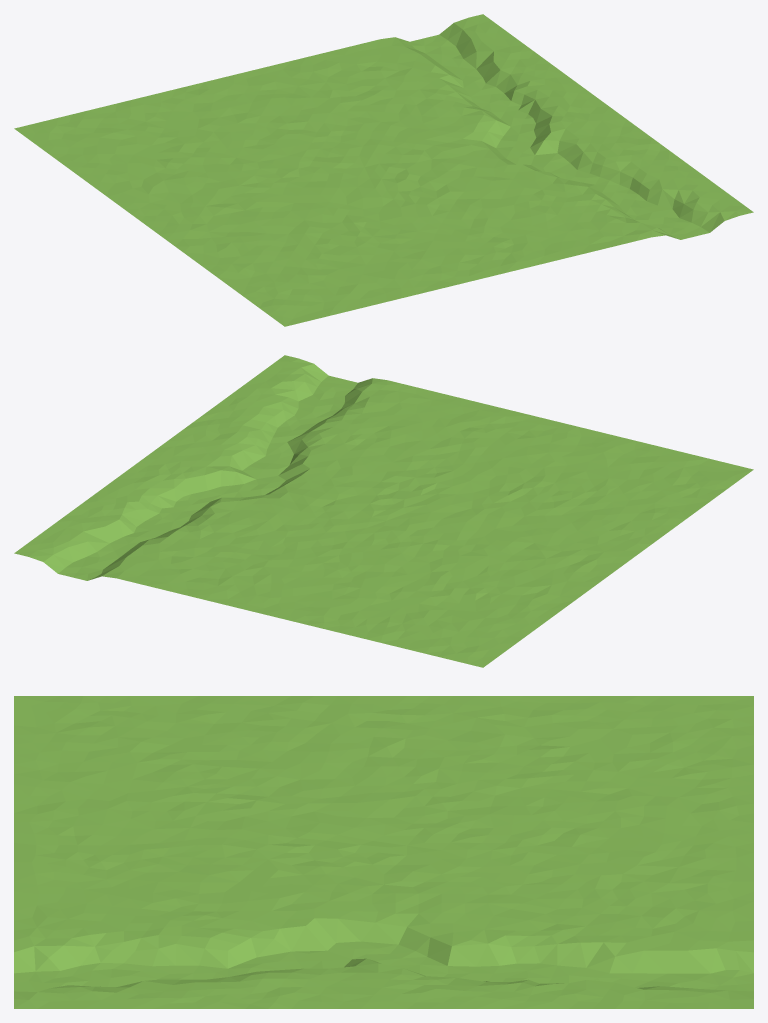
Rendered from MT_River_L_a_01_R.fbx.
3 renders of one model, top to bottom at view 1: azimuth 30°, elevation 25°; view 2: azimuth 150°, elevation 25°; view 3: azimuth 270°, elevation 25°, orthographic. The views are drawn at different scales.
Visible parts, largest first — view 1: MT_River_L_a_01_R; view 2: MT_River_L_a_01_R; view 3: MT_River_L_a_01_R.
Part boxes in pixels (bbox=[...]): MT_River_L_a_01_R: bbox=[14, 14, 753, 326]; MT_River_L_a_01_R: bbox=[14, 355, 753, 667]; MT_River_L_a_01_R: bbox=[14, 696, 753, 1008].
Bounding box in the file's own units: 100 × 2.2 × 100.
